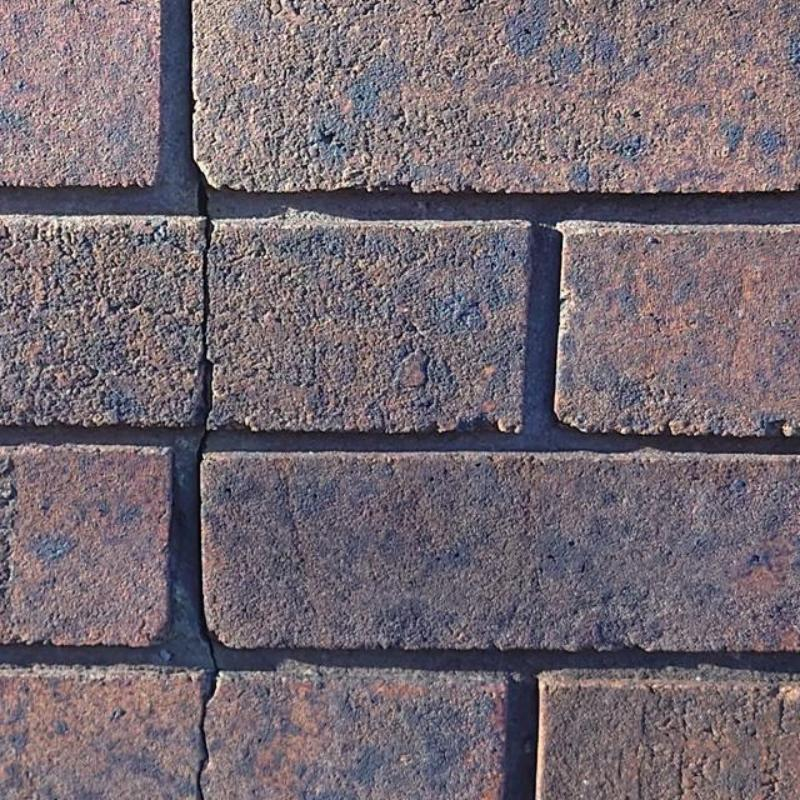crack: (197, 178, 220, 470), (196, 619, 220, 800)
